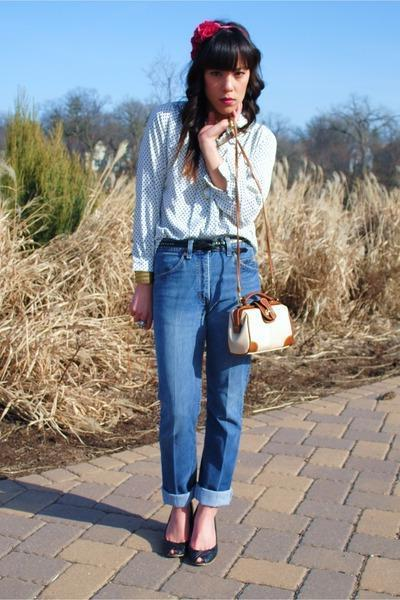long sleeve shirt: (119, 101, 282, 277)
trousers: (141, 236, 261, 508)
